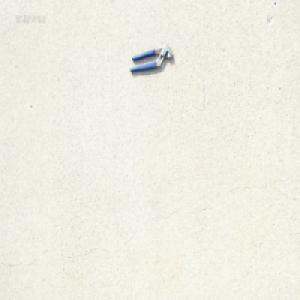Pliers: (128, 42, 173, 73)
